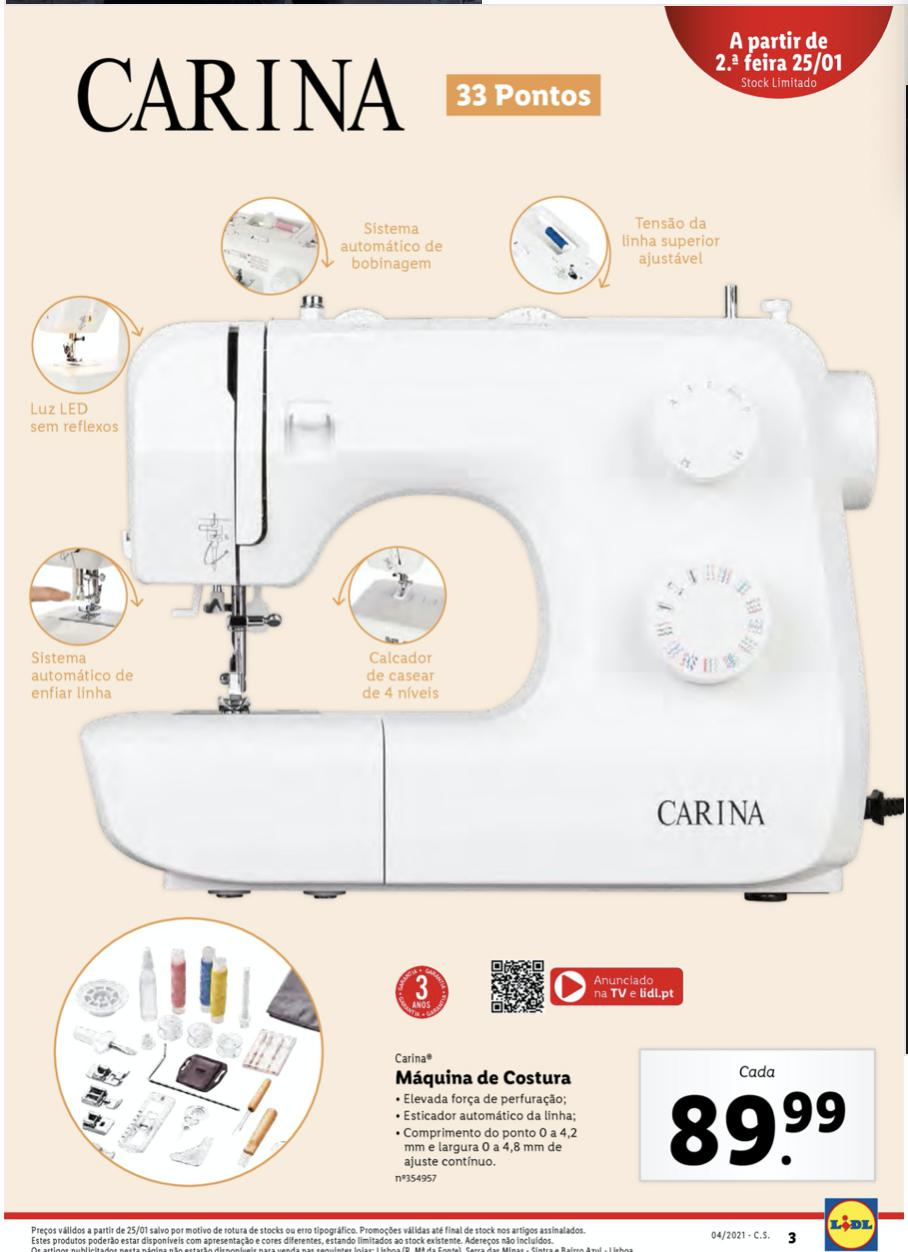name: (393, 1064, 577, 1092)
price: (669, 1080, 850, 1175)
product: (7, 169, 904, 1197)
